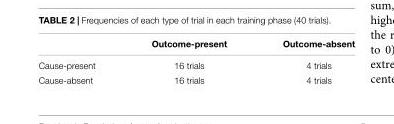table: (37, 37, 354, 84)
table column: (122, 37, 254, 84), (254, 37, 354, 84), (37, 37, 122, 84)
table column header: (37, 37, 354, 53)
table row: (37, 53, 354, 71), (37, 37, 354, 53), (37, 71, 354, 84)
